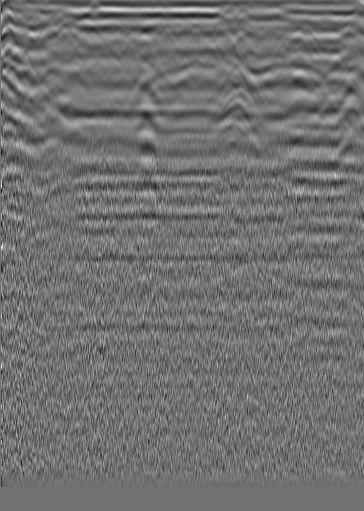가스: (217, 99, 257, 138)
상수: (310, 31, 330, 51)
오수: (26, 26, 46, 46)
우수: (158, 25, 178, 45)
